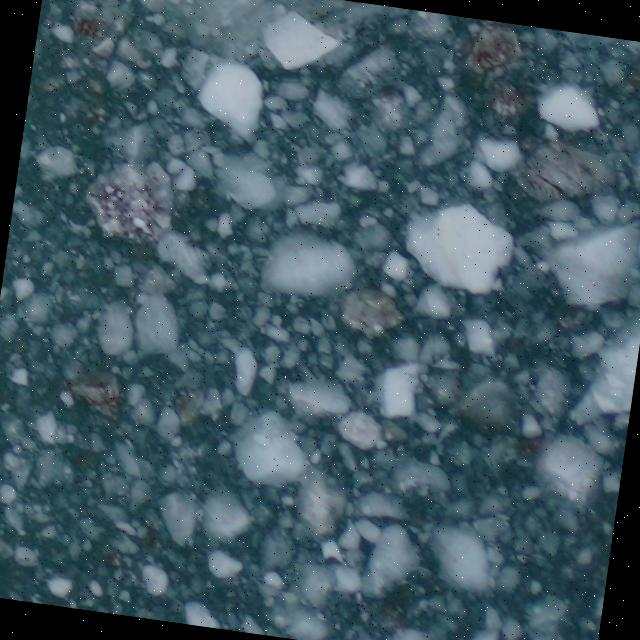seal: (326, 0, 402, 12)
